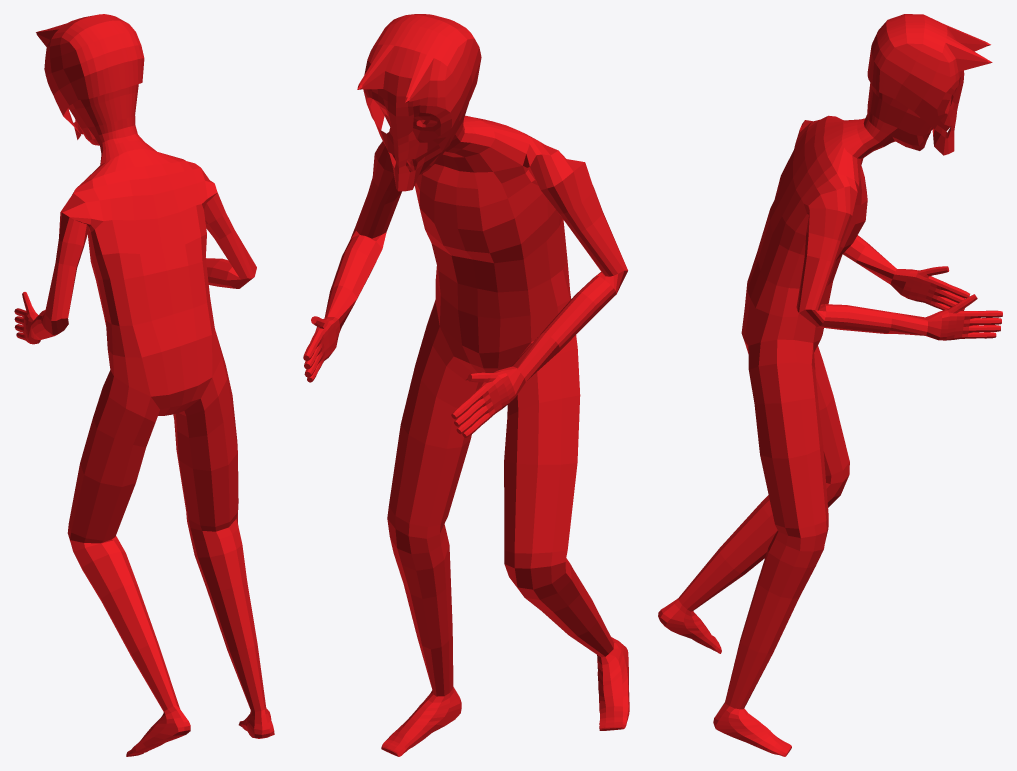
Rendered from correrE_000114.obj.
3 renders of one model, left to right at view 1: azimuth 30°, elevation 25°; view 2: azimuth 150°, elevation 25°; view 3: azimuth 270°, elevation 25°, orthographic. The views are drawn at different scales.
Visible parts, largest first — view 1: Plane.002_Plane.001; view 2: Plane.002_Plane.001; view 3: Plane.002_Plane.001.
Part boxes in pixels (x1,y1,x2,y2): Plane.002_Plane.001: (14, 14, 274, 756); Plane.002_Plane.001: (303, 14, 629, 756); Plane.002_Plane.001: (658, 14, 1002, 756).
Bounding box in the file's own units: 2.25 × 6.74 × 3.06.
